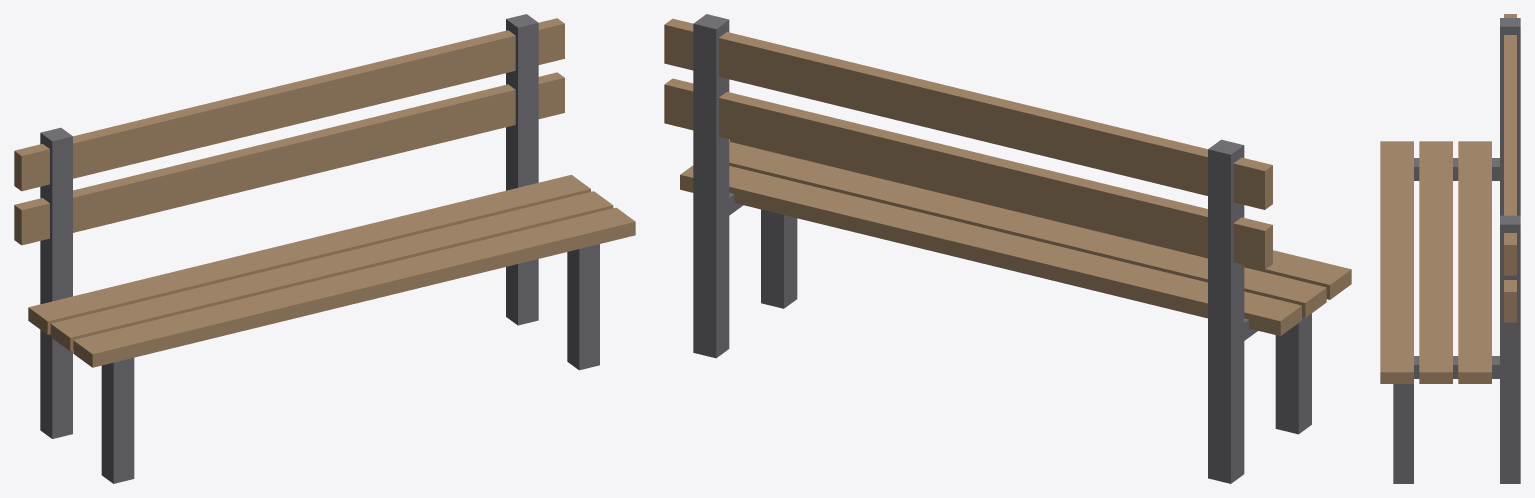
Rendered from bench.glb.
3 views of the same model, side by side, from view 1: azimuth 30°, elevation 25°; view 2: azimuth 150°, elevation 25°; view 3: azimuth 270°, elevation 25° (orthographic). The views are drawn at different scales.
Parts seen in each view (by area): view 1: bench; view 2: bench; view 3: bench.
Boxes of the visible parts, bbox=[...] form: bench: bbox=[14, 14, 635, 483]; bench: bbox=[664, 14, 1351, 483]; bench: bbox=[1380, 14, 1520, 483].
Bounding box in the file's own units: 4.2 × 2.2 × 1.08.
